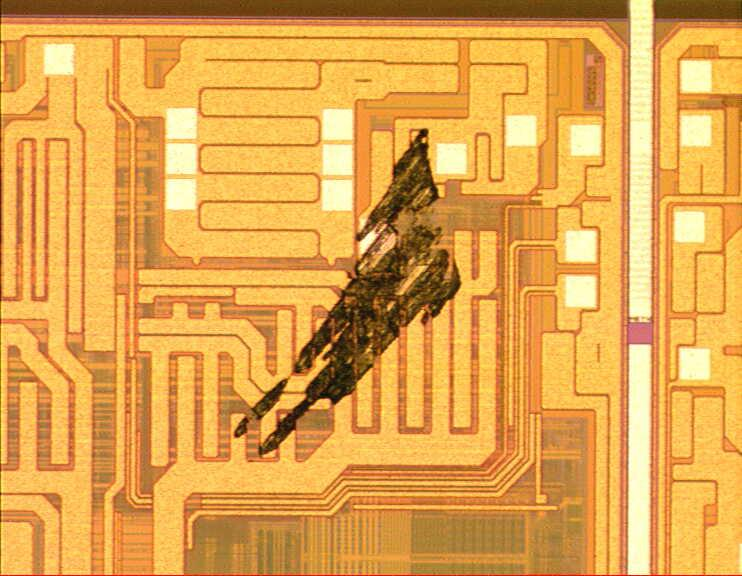SCRATCH: (225, 118, 470, 466)
